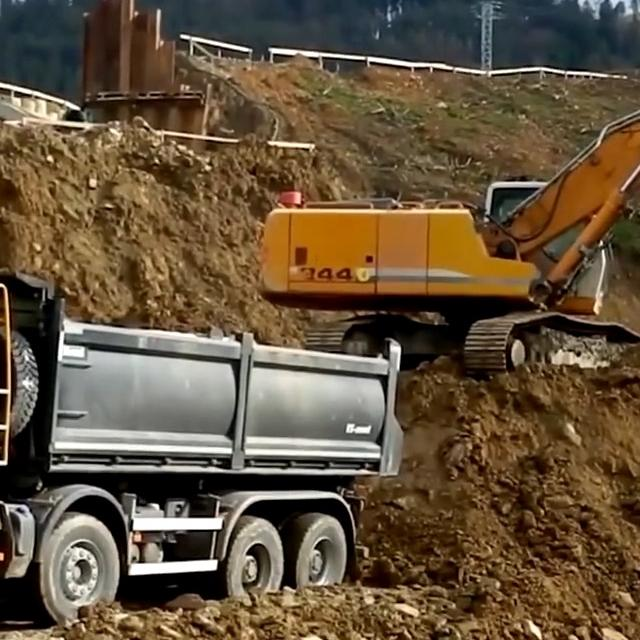machinery: (0, 272, 400, 639), (258, 82, 640, 451)
